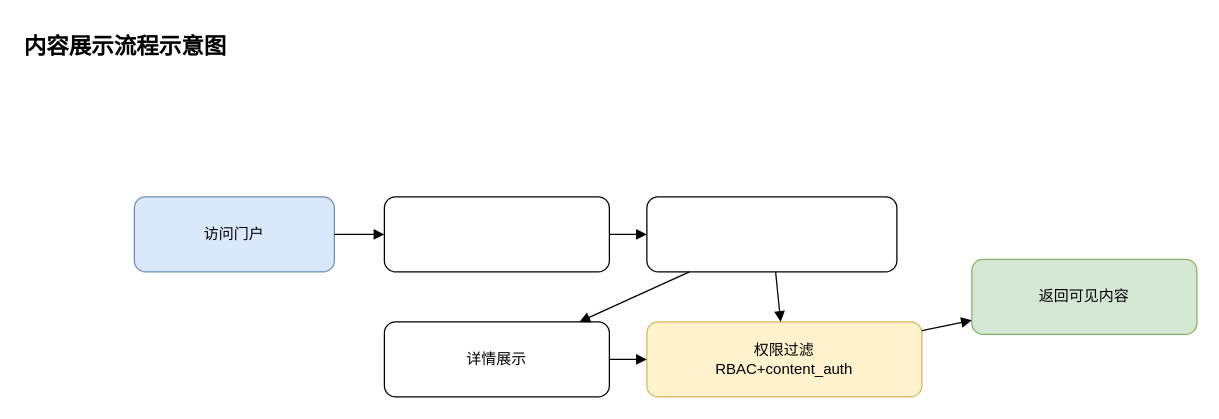
The diagram is 1219 pixels wide and 419 high, and some of its shapes have lost their labels. The centre of each missing label's shape, as x and y in pixels:
列表聚合 （筛选/排序）: point 771,234
加载类目/标签: point 496,234
